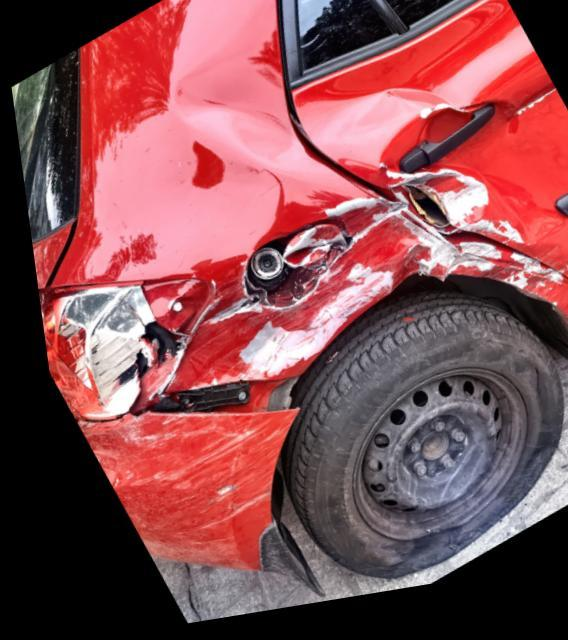crack: (397, 195, 442, 241)
dent: (157, 213, 551, 394), (169, 16, 329, 187), (324, 20, 495, 109), (398, 183, 558, 261), (410, 115, 511, 181)
dislocated part: (64, 384, 302, 600)
lamp broken: (30, 283, 209, 422)
no part: (233, 225, 344, 316)
scratch: (108, 415, 265, 538)
tire flat: (265, 304, 553, 588)
